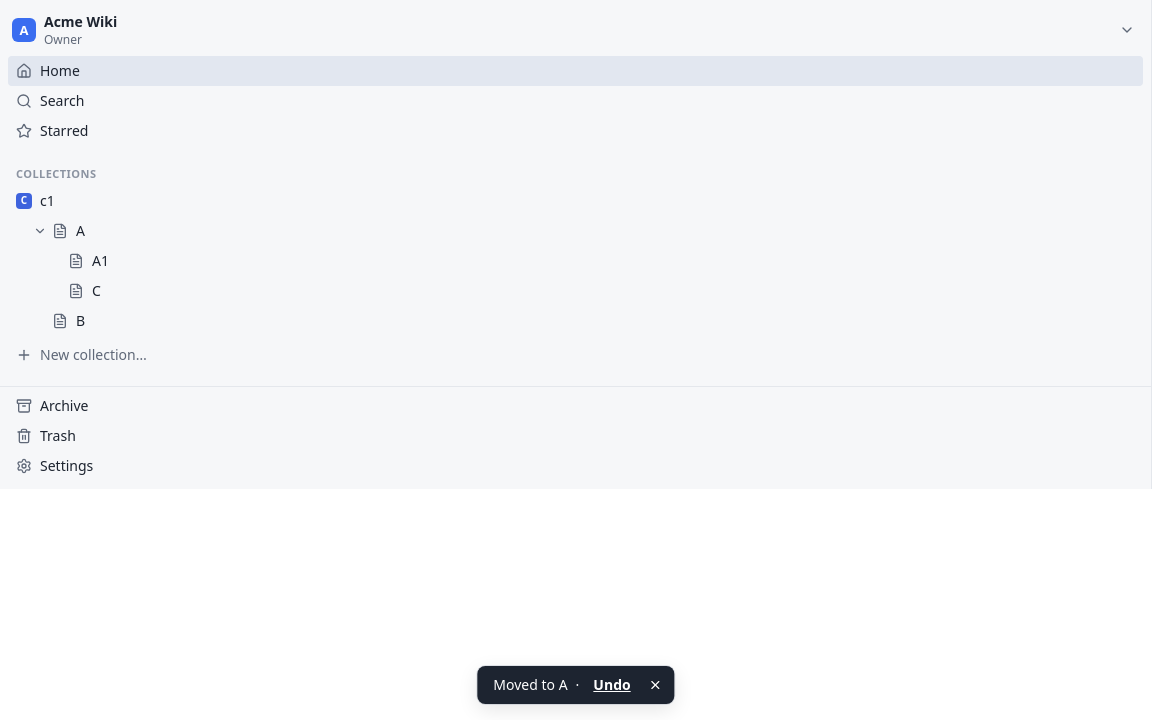
Scenario: optimistic moves › shows "Moved to <parent> · Undo"; Undo moves it back to its old parent and position
The image size is (1152, 720).
Expected: the message shows "Moved to A", [493,675,568,694]
Step 1. Click the button "Undo" → (612, 685), box [587,674,637,696]
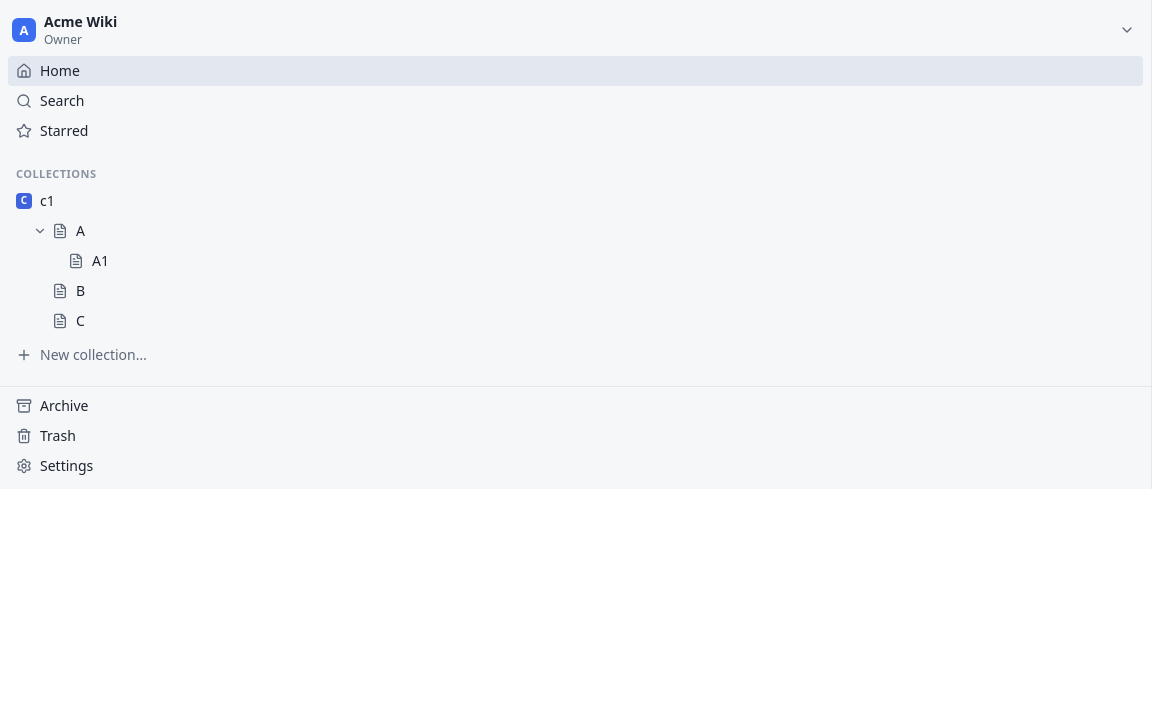
Expected: the button "Undo" is gone
